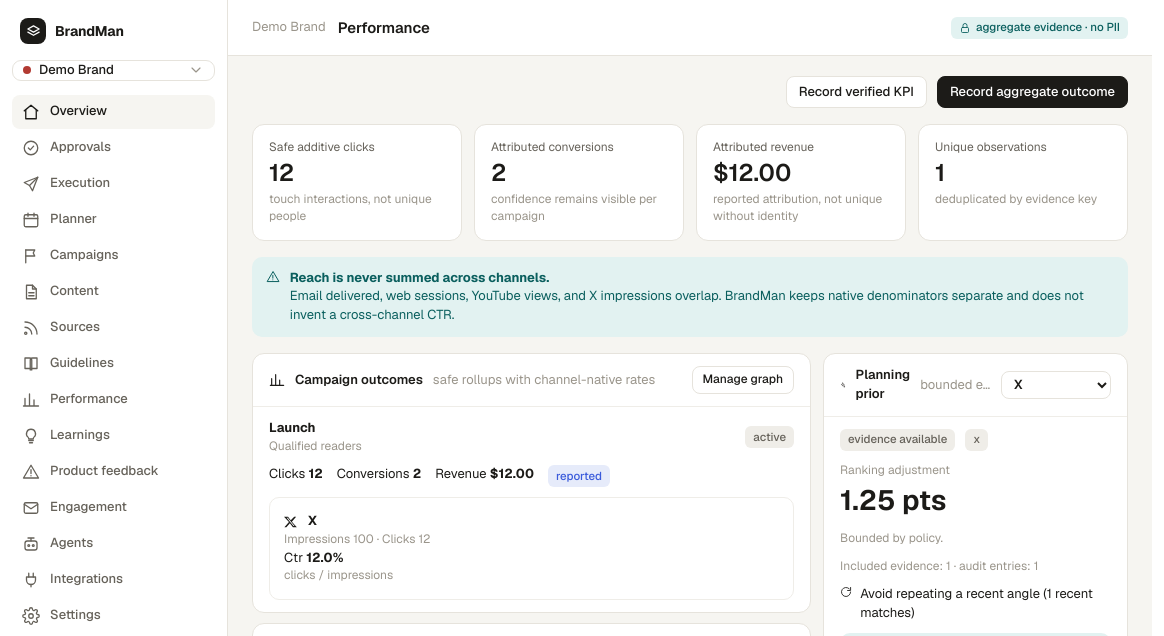
Test: Performance › reloads a bounded, audited planning prior without exposing provider or approval mutations
Expected: the text "1.25 pts" is shown, x1=840 y1=482 x2=946 y2=518
Expected: the text "Included evidence: 1 · audit entries: 1" is shown, x1=840 y1=558 x2=1038 y2=574
Select "Web" in the dropdown named "Planning channel": coordinates (1056, 385) x1=1001 y1=371 x2=1111 y2=399
(page scrolled)
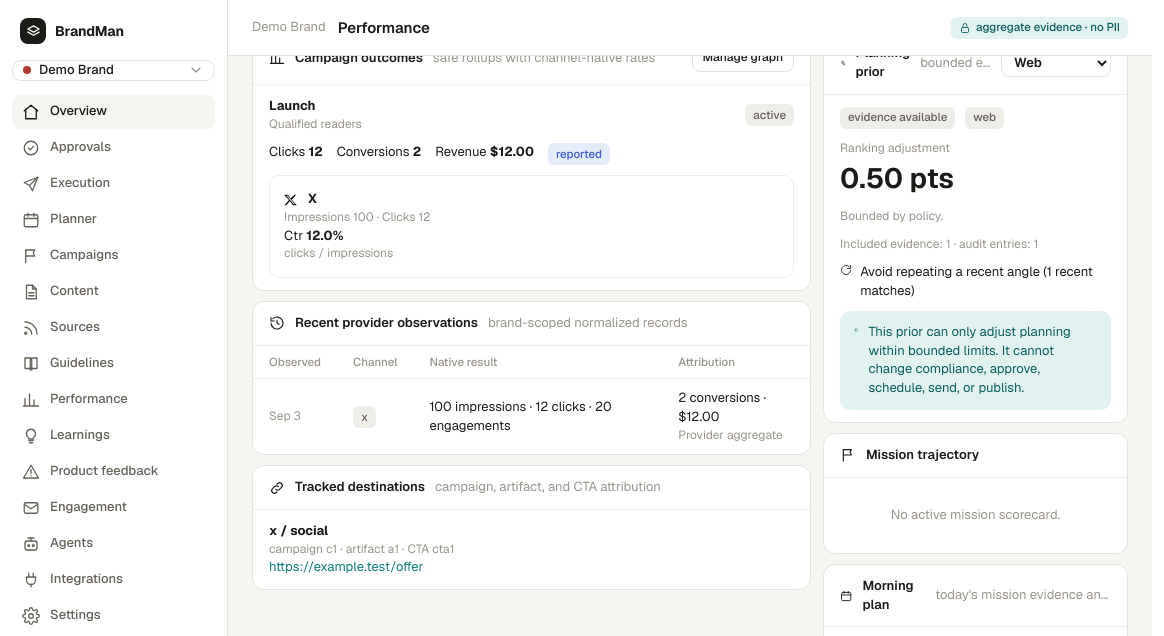
Expected: the text "cannot change compliance, approve, schedule, send, or publish" is shown, x1=868 y1=323 x2=1071 y2=396
Now the text "0.50 pts" is shown, box x1=840 y1=160 x2=954 y2=196
